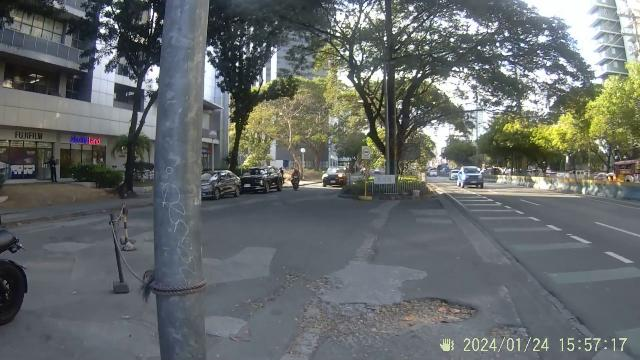street_sign: (352, 144, 376, 204)
utility_post: (104, 0, 236, 360)
